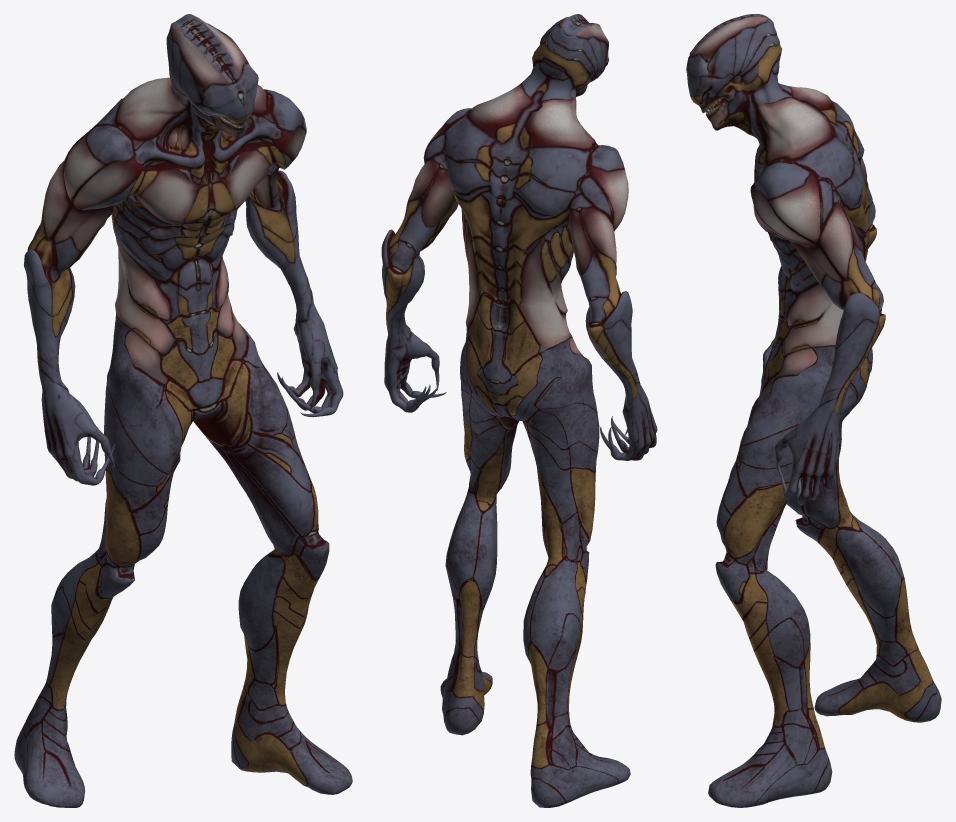
Rendered from c-bio.glb.
3 renders of one model, left to right at view 1: azimuth 30°, elevation 25°; view 2: azimuth 150°, elevation 25°; view 3: azimuth 270°, elevation 25°, orthographic. The views are drawn at different scales.
Parts seen in each view (by area): view 1: 322_2, 322_1; view 2: 322_1, 322_2; view 3: 322_2, 322_1.
Boxes of the visible parts, x1,y1,x2,y2 form: 322_2: (14,265,352,807); 322_1: (24,14,343,485); 322_1: (381,14,657,460); 322_2: (440,288,630,807); 322_2: (708,300,941,807); 322_1: (686,14,885,505).
Size of the model in its own units: 0.6717 by 1.77 by 0.5578.
2 materials, 2 textured.
